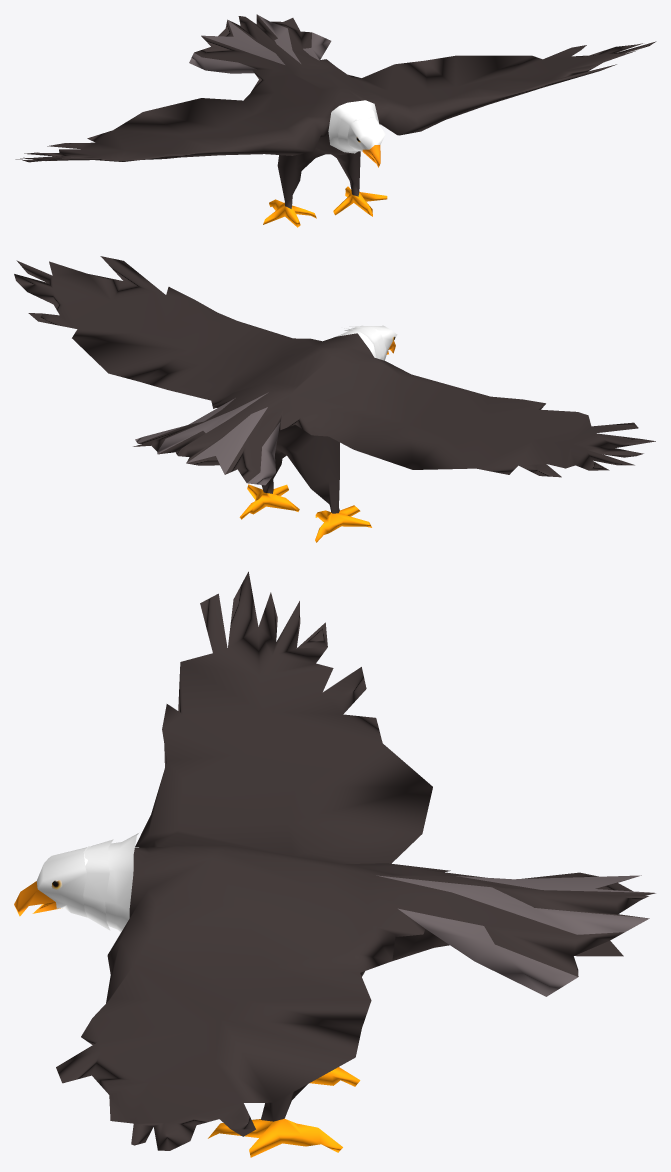
3 views of the same model, one above another, from view 1: azimuth 30°, elevation 25°; view 2: azimuth 150°, elevation 25°; view 3: azimuth 270°, elevation 25° (orthographic). The views are drawn at different scales.
Visible parts, largest first — view 1: Eagle; view 2: Eagle; view 3: Eagle.
Part boxes in pixels (box(x1,y1,x2,y2)): Eagle: box(15, 14, 656, 227); Eagle: box(14, 256, 655, 542); Eagle: box(14, 571, 655, 1157).
Size of what is drawn, in the model's own units: 2.68 by 0.6058 by 1.31.
Materials: 1 (1 with a texture image).
